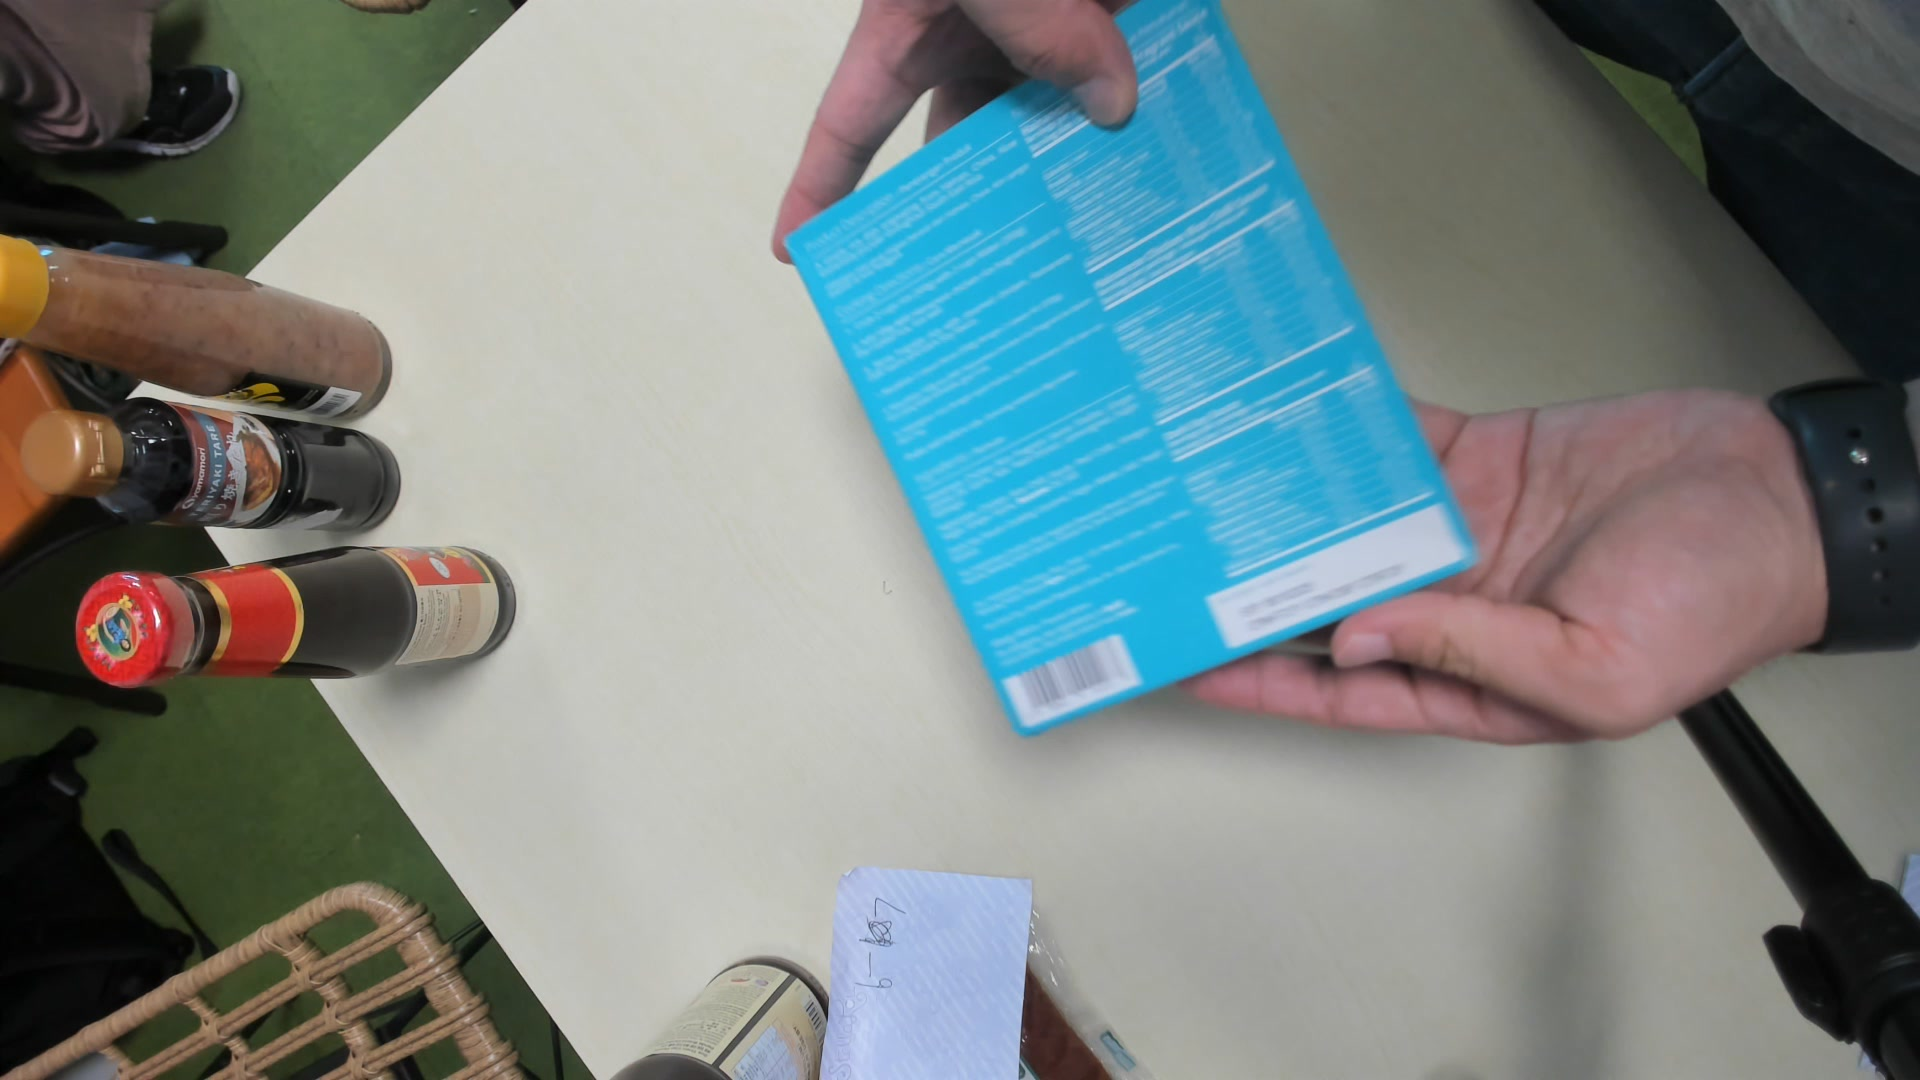OtherSauceDressingSoupbasePaste_200-299g_Halal_NonHealthy: (785, 11, 1484, 740)
